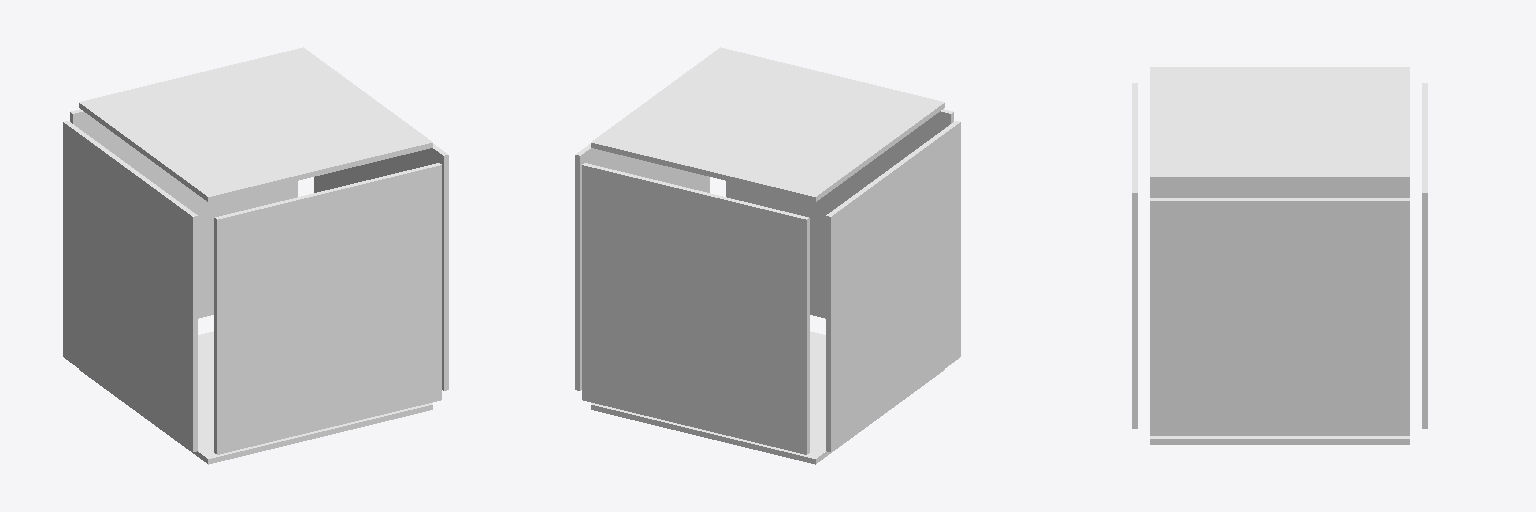
File: Glass.obj
The picture shows the model from 3 angles: view 1: azimuth 30°, elevation 25°; view 2: azimuth 150°, elevation 25°; view 3: azimuth 270°, elevation 25°; orthographic projection.
Visible parts, largest first — view 1: Glass; view 2: Glass; view 3: Glass.
Part boxes in pixels (x1,y1,x2,y2): Glass: (63,47,448,464); Glass: (575,47,960,464); Glass: (1132,67,1427,444).
Size of the model in its own units: 5 by 5 by 5.